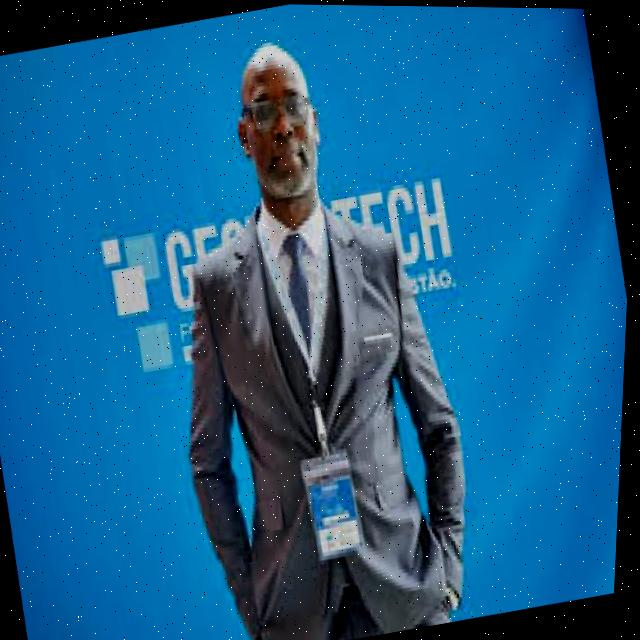id_card: (241, 217, 392, 567)
